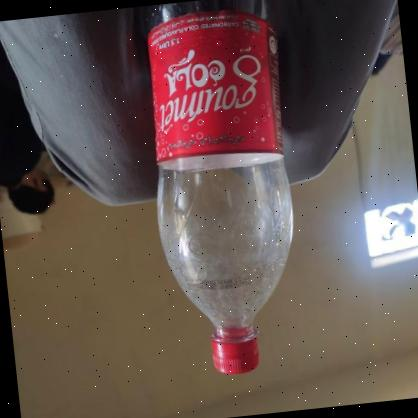bottle: (135, 0, 312, 382)
cap: (209, 330, 262, 377)
label: (142, 6, 284, 170)
